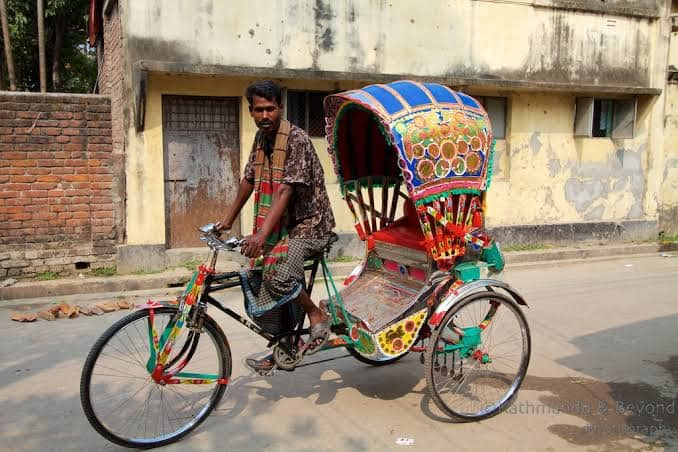Rickshaw: (63, 66, 545, 442)
